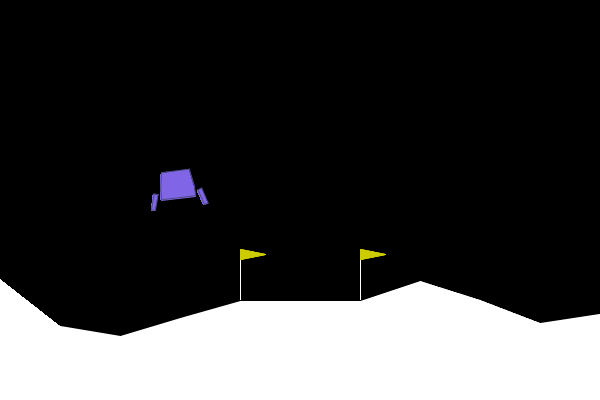lander: (145, 166, 209, 213)
